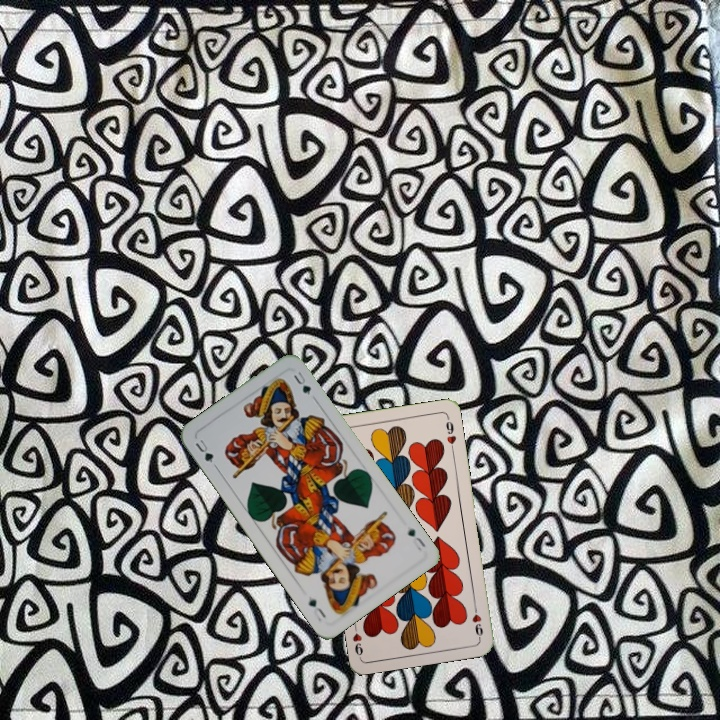GU: (191, 435, 216, 465), (404, 524, 428, 554)
H9: (468, 600, 486, 641)
